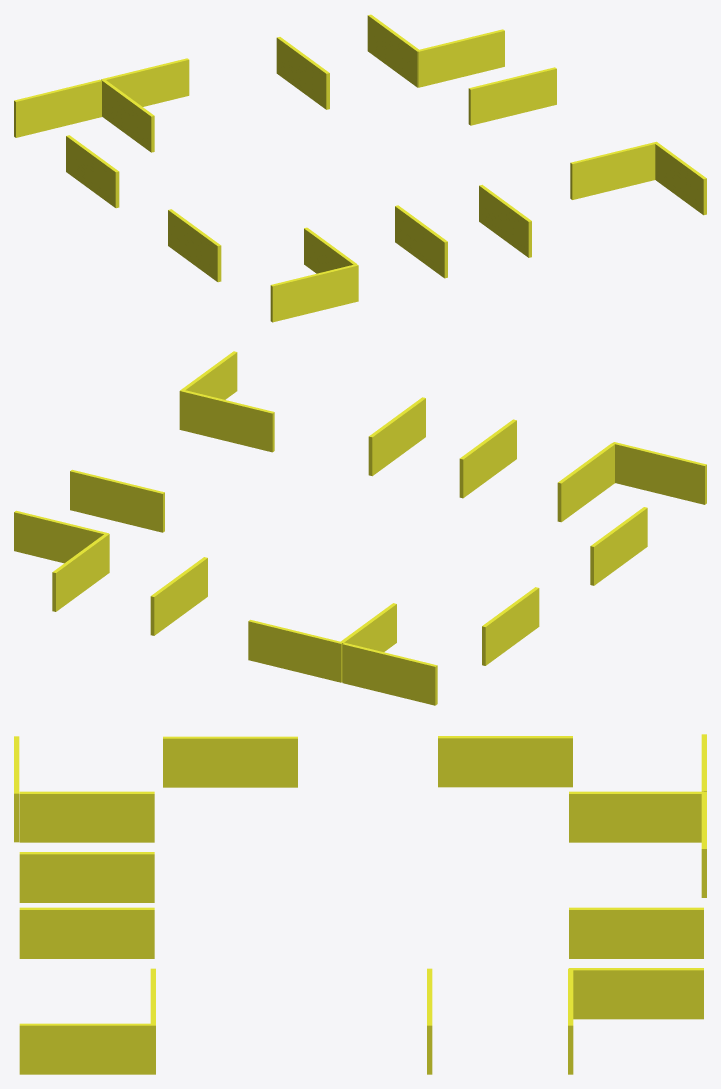
File: evaluation_maze2.obj
3 views of the same model, one above another, from view 1: azimuth 30°, elevation 25°; view 2: azimuth 150°, elevation 25°; view 3: azimuth 270°, elevation 25° (orthographic). The views are drawn at different scales.
Visible parts, largest first — view 1: Plane.199; view 2: Plane.199; view 3: Plane.199.
Boxes of the visible parts, bbox=[...] form: Plane.199: bbox=[14, 14, 706, 322]; Plane.199: bbox=[14, 351, 706, 705]; Plane.199: bbox=[14, 734, 706, 1074].
Size of the model in its own units: 1.28 by 0.1 by 1.28.
